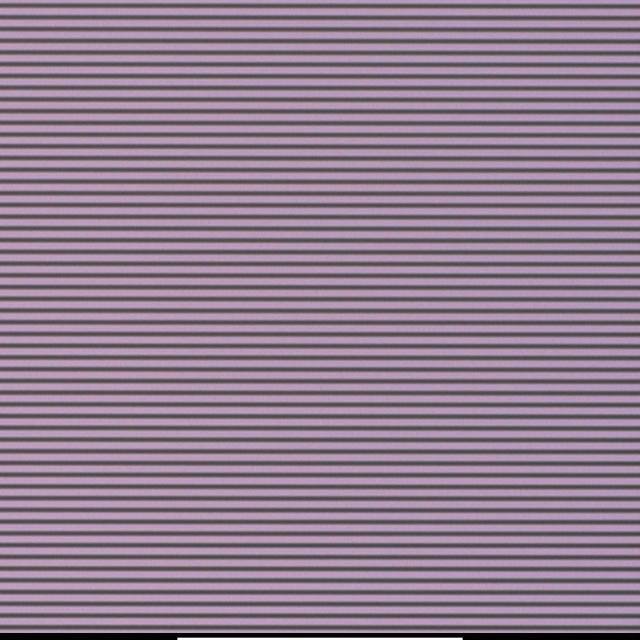nonvisual: (308, 328, 320, 340)
